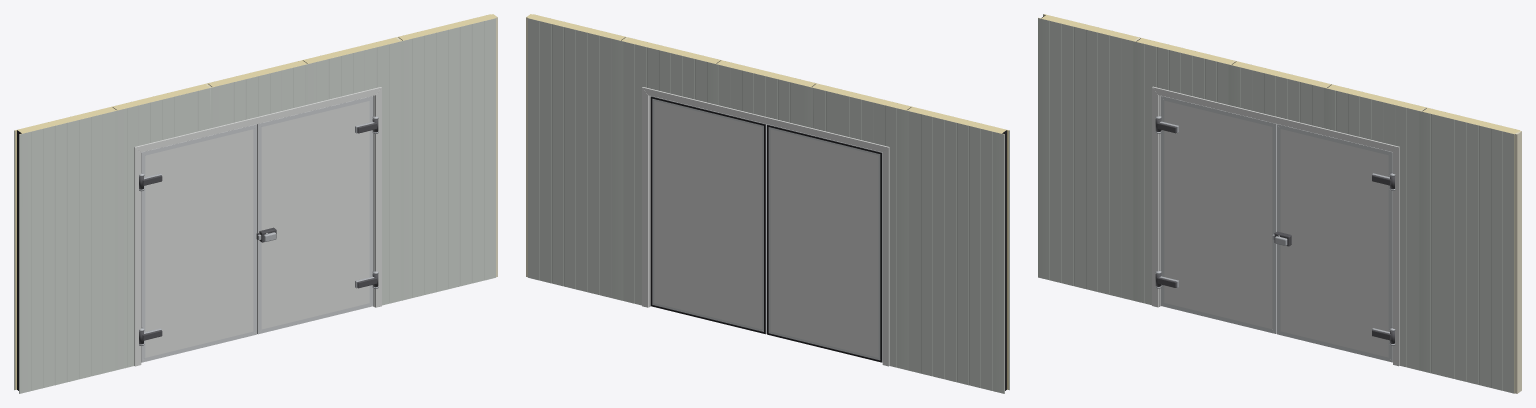
File: double-8x7.glb
The picture shows the model from 3 angles, left to right: view 1: azimuth 30°, elevation 25°; view 2: azimuth 150°, elevation 25°; view 3: azimuth 330°, elevation 25°; orthographic projection.
Parts seen in each view (by area): view 1: Wall_p0_Steel_top, Wall_p4_Steel_top, SkinF.001, SkinF, Wall_p1_Steel_top, Wall_p3_Steel_top, Wall_p2_Steel_top, TrimF_T, TrimF_L, TrimF_R, Wall_p0_PIR_core, AluF_L (+14 smaller); view 2: Wall_p0_Steel_bottom, Wall_p4_Steel_bottom, SkinB, SkinB.001, Wall_p1_Steel_bottom, Wall_p3_Steel_bottom, Wall_p2_Steel_bottom, TrimB_T, TrimB_L, TrimB_R, Wall_p0_PIR_core, AluB_L (+12 smaller); view 3: Wall_p0_Steel_top, Wall_p4_Steel_top, SkinF.001, SkinF, Wall_p3_Steel_top, Wall_p1_Steel_top, Wall_p2_Steel_top, TrimF_T, Wall_p4_Tongue_tape, TrimF_R, TrimF_L, AluF_L.001 (+12 smaller).
Part boxes in pixels (x1,y1,x2,y2): Wall_p0_Steel_top: [19, 111, 114, 393]; Wall_p4_Steel_top: [400, 18, 495, 300]; SkinF.001: [145, 129, 253, 357]; SkinF: [261, 101, 369, 329]; Wall_p1_Steel_top: [115, 88, 210, 370]; Wall_p3_Steel_top: [305, 41, 400, 305]; Wall_p2_Steel_top: [210, 65, 305, 128]; TrimF_T: [135, 87, 381, 152]; TrimF_L: [134, 147, 141, 366]; TrimF_R: [375, 87, 381, 307]; Wall_p0_PIR_core: [14, 107, 115, 389]; AluF_L: [257, 124, 261, 333]; Wall_p0_Steel_bottom: [909, 111, 1004, 393]; Wall_p4_Steel_bottom: [528, 18, 623, 300]; SkinB: [654, 101, 762, 329]; SkinB.001: [770, 129, 878, 357]; Wall_p1_Steel_bottom: [813, 88, 908, 370]; Wall_p3_Steel_bottom: [623, 41, 718, 305]; Wall_p2_Steel_bottom: [718, 65, 813, 128]; TrimB_T: [642, 87, 888, 152]; TrimB_L: [882, 147, 889, 366]; TrimB_R: [642, 87, 648, 307]; Wall_p0_PIR_core: [908, 107, 1009, 389]; AluB_L: [762, 124, 766, 333]; Wall_p0_Steel_top: [1038, 18, 1133, 300]; Wall_p4_Steel_top: [1419, 111, 1514, 393]; SkinF.001: [1164, 100, 1272, 328]; SkinF: [1280, 129, 1388, 357]; Wall_p3_Steel_top: [1324, 87, 1419, 370]; Wall_p1_Steel_top: [1133, 41, 1228, 305]; Wall_p2_Steel_top: [1228, 64, 1323, 128]; TrimF_T: [1152, 86, 1399, 151]; Wall_p4_Tongue_tape: [1515, 131, 1521, 393]; TrimF_R: [1393, 147, 1399, 366]; TrimF_L: [1152, 87, 1158, 307]; AluF_L.001: [1160, 96, 1164, 305].
Size of the model in its own units: 5.02 by 2.6 by 0.196.
